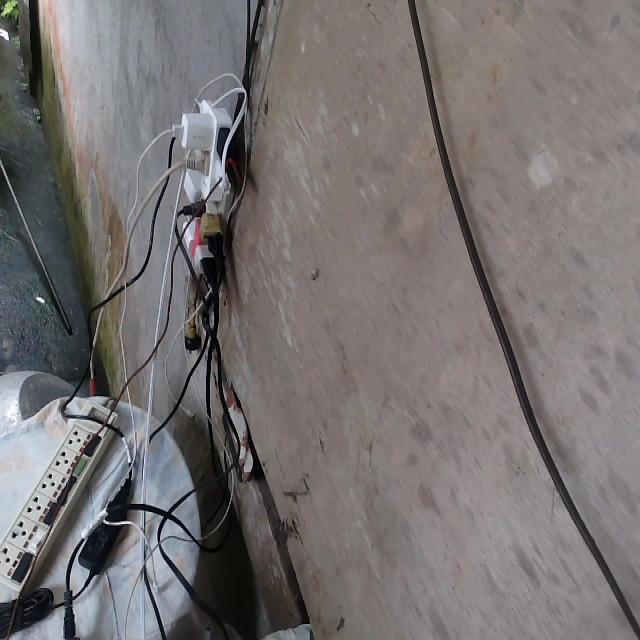-: (166, 93, 248, 292)
